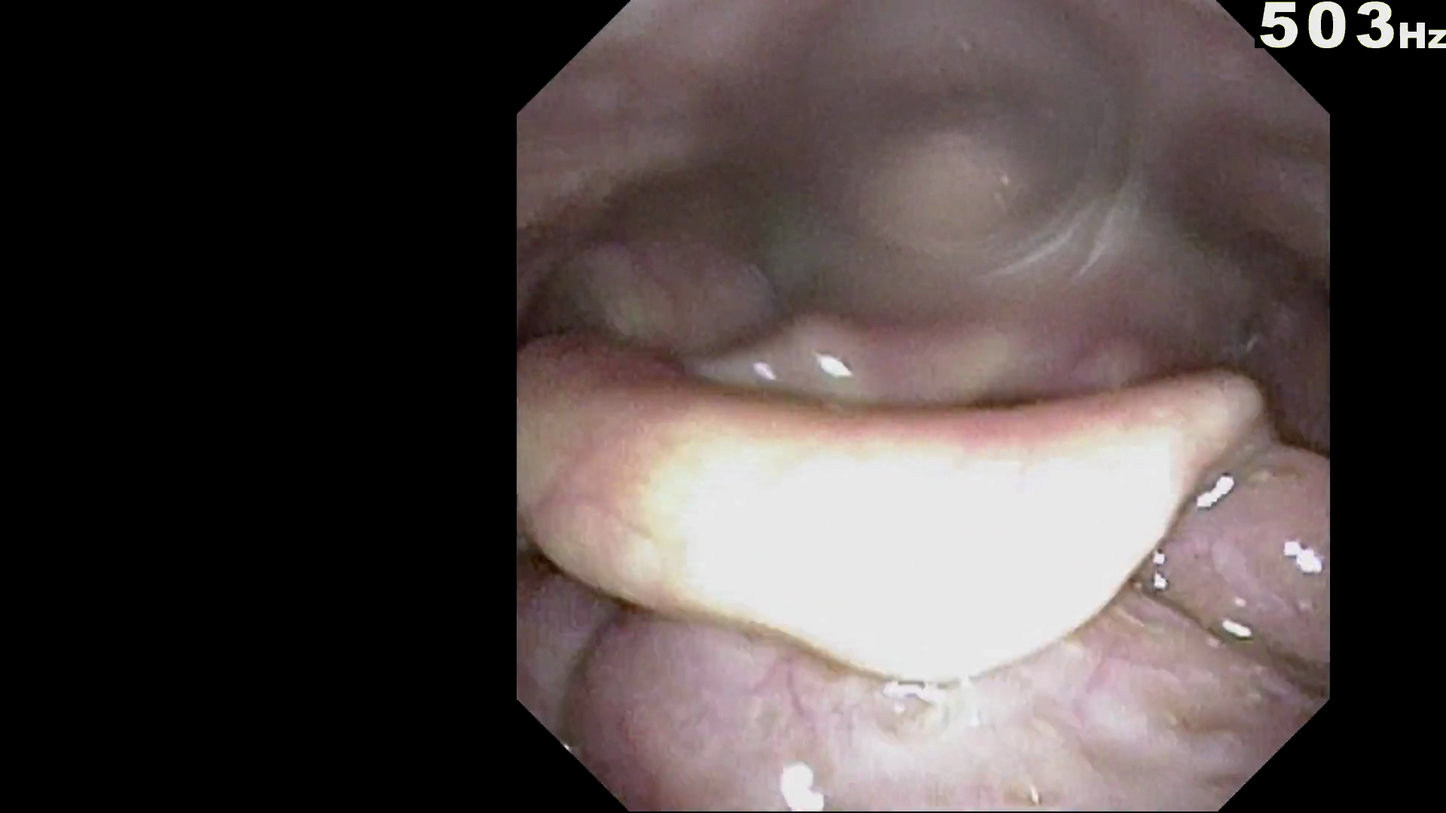epiglottis: (623, 365, 1238, 590)
